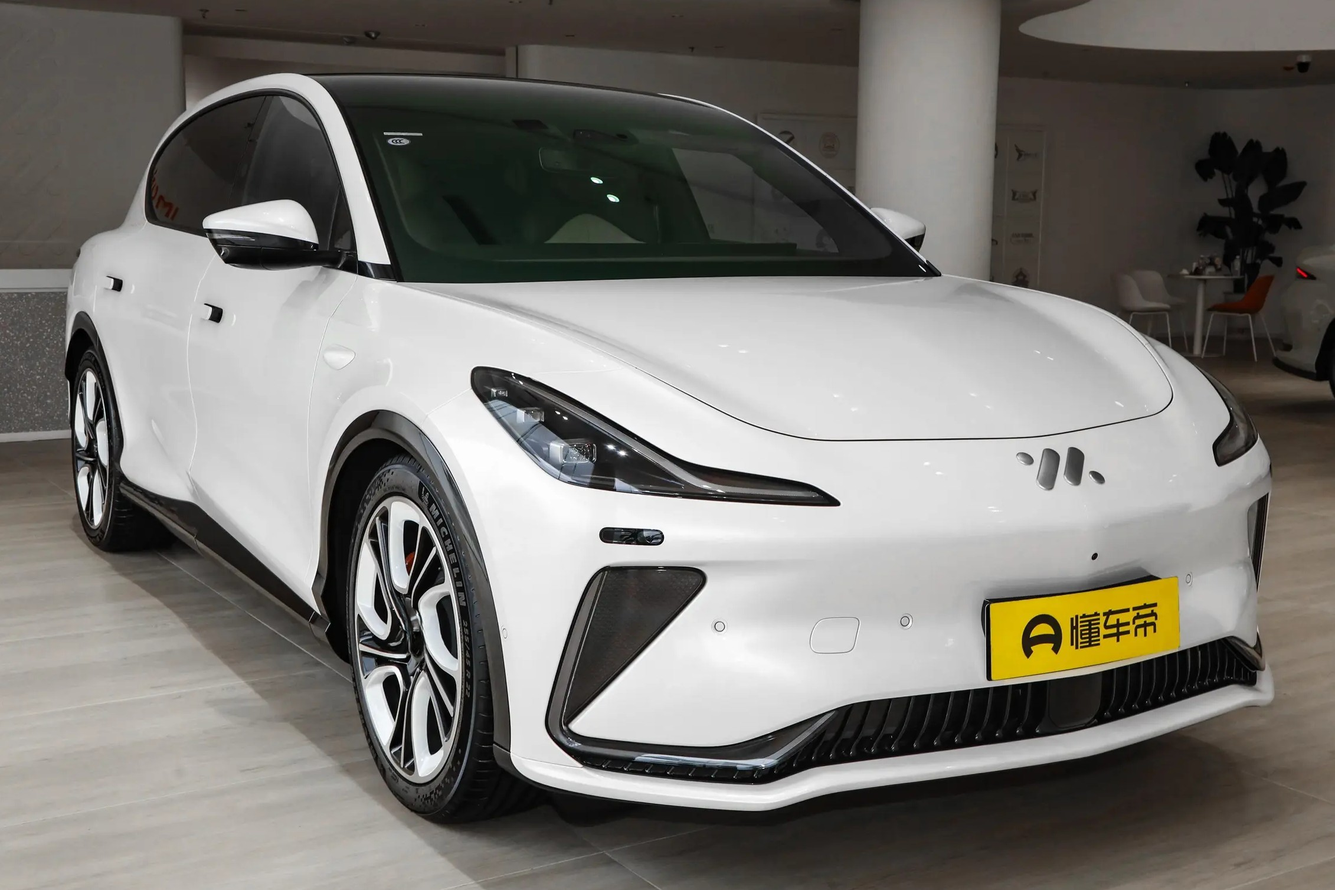IM: (1016, 446, 1105, 490)
